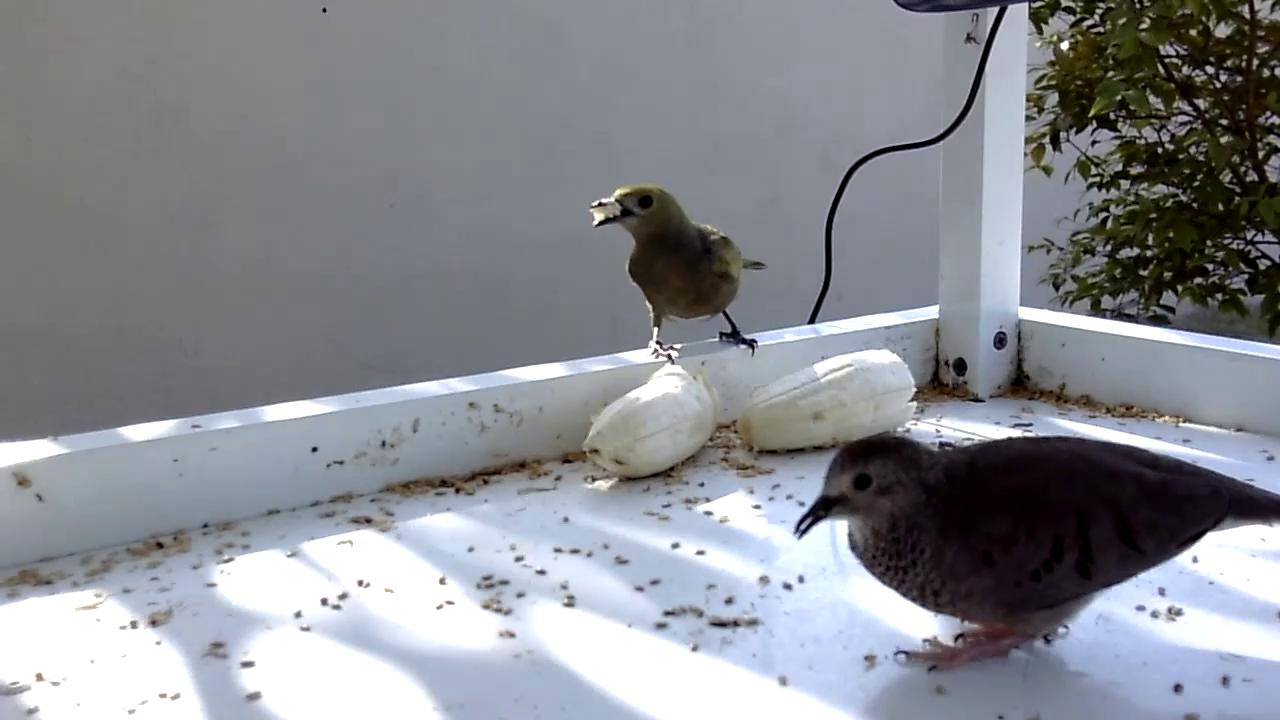rolinha: (793, 429, 1280, 677)
sanhaco_do_coqueiro: (588, 184, 769, 368)
